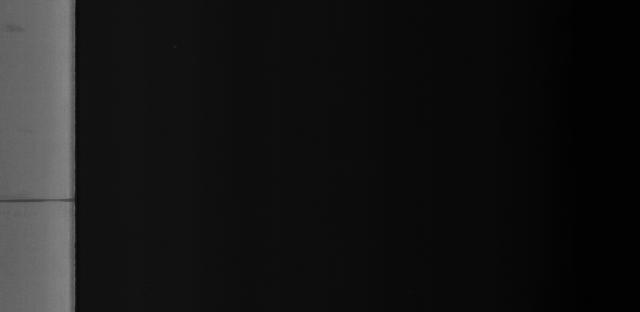crease: (3, 189, 86, 214)
